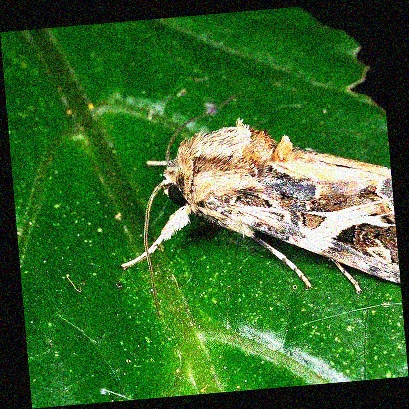Spodoptera litura: (116, 93, 393, 310)
